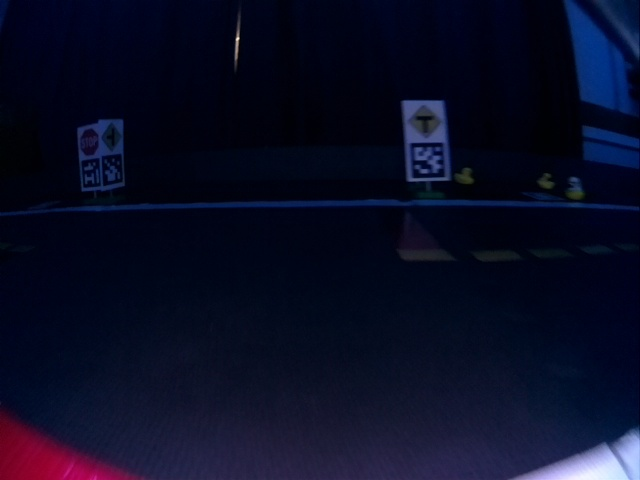Duckie: (567, 177, 584, 199), (454, 168, 474, 184), (538, 173, 553, 188)
Intersection sign: (406, 102, 445, 137), (102, 122, 123, 151)
QR code: (410, 140, 448, 178), (103, 153, 123, 187), (80, 158, 100, 189), (524, 192, 563, 200)
Stop sign: (79, 129, 98, 153)
